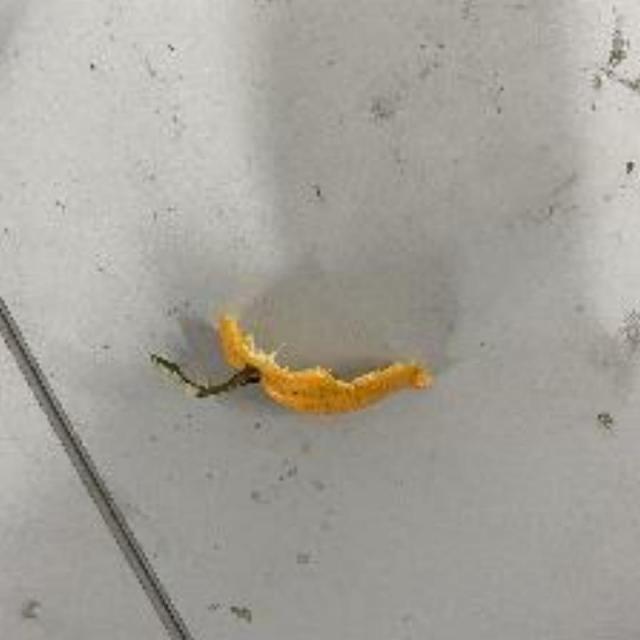orange-peel: (214, 312, 432, 415)
